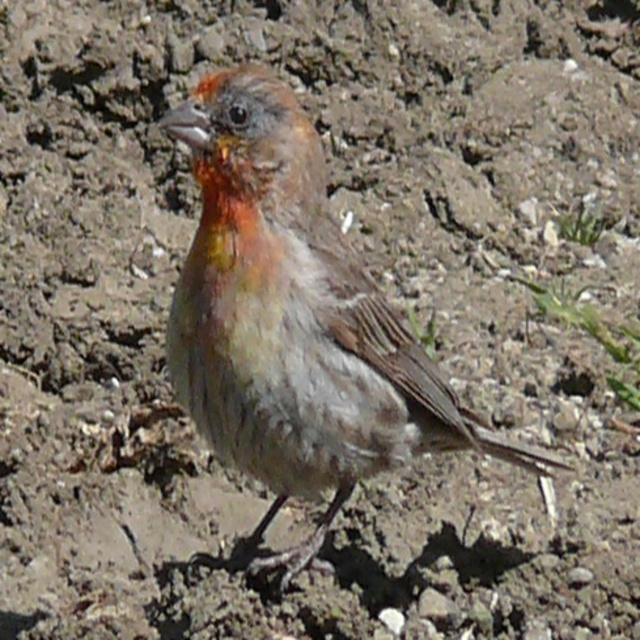Sparrow: (160, 61, 576, 594)
